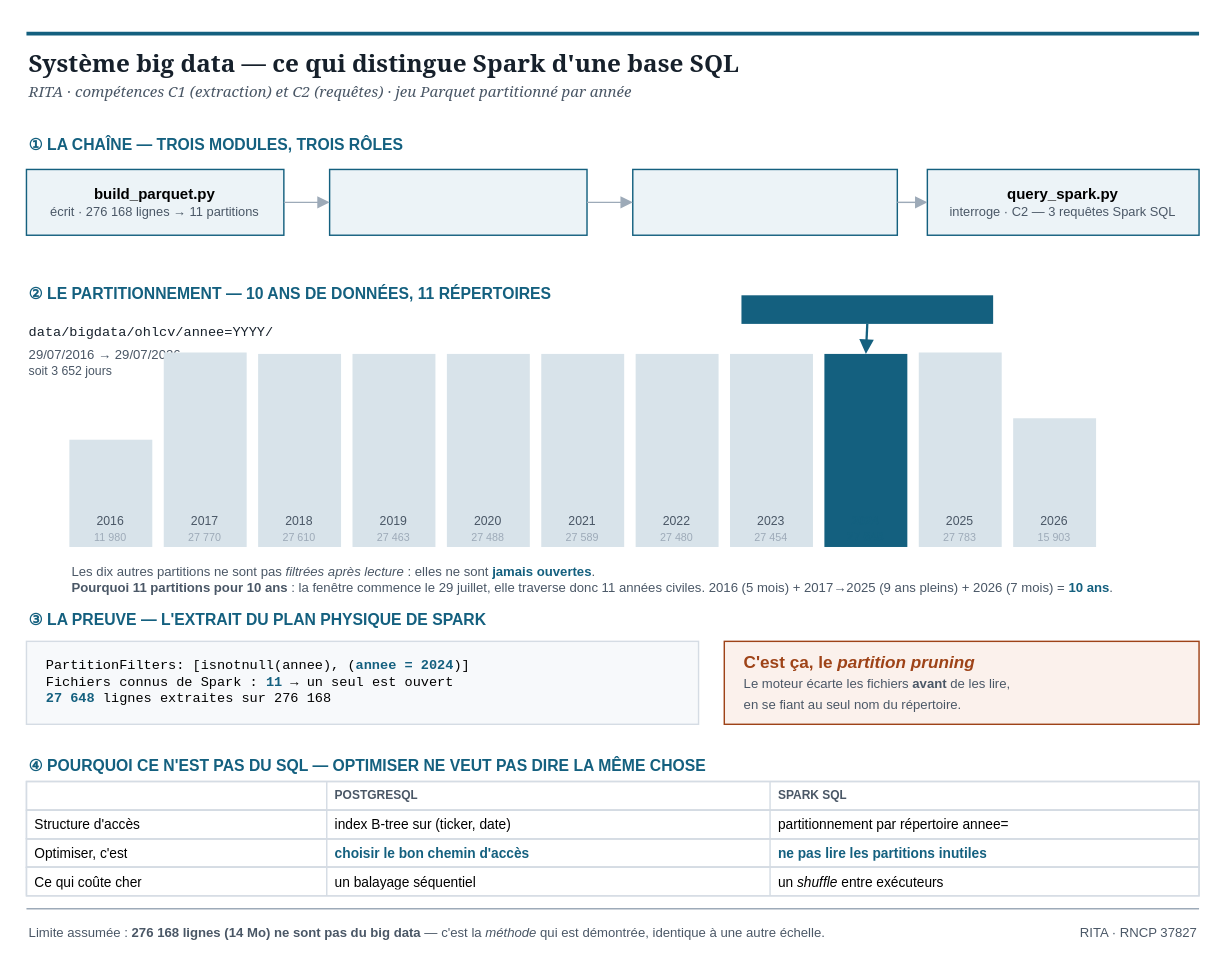
Image size: 1226x967. Some labels were removed from this diagram. The shapes that lost their labels are listed below. From the top down, each one's centre as x and y in pixels, then its label:
(x=457, y=201): session_spark.py démarre · JAVA_HOME automatique
(x=764, y=201): extract_spark.py lit · C1 — extraction programmatique
(x=866, y=309): WHERE annee = 2024
